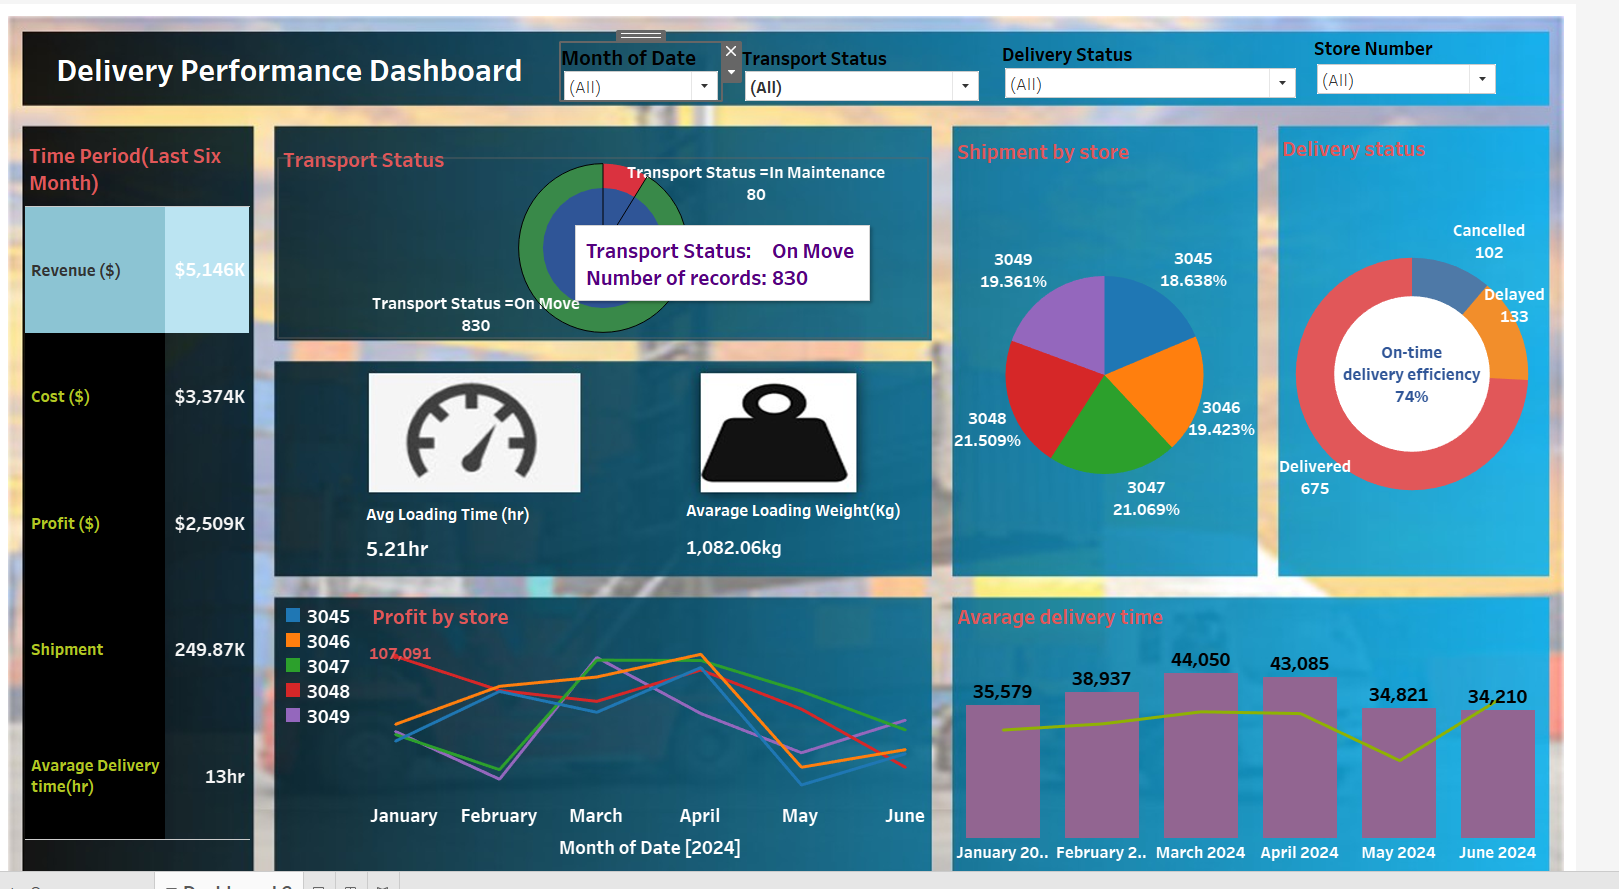

Layout of this report page (visuals, bound fields, positions):
{"tool":"tableau","page":{"name":"Dashboard 2","canvas":[1580,900],"ordinal":0},"visuals":[{"type":"image","param":"Image/D1.jpg","box":[8,8,1564,884]},{"type":"text","box":[547,42,501,41]},{"type":"text","box":[283,124,213,37]},{"type":"worksheet","title":"Sheet 4","mark":"Pie","rows":["Calculation_45598988193312774","Calculation_45598988193312774"],"box":[954,125,309,446]},{"type":"worksheet","title":"Sheet 5","mark":"Pie","box":[1281,127,273,442]},{"type":"worksheet","title":"Sheet 1","mark":"Automatic","box":[29,133,225,703]},{"type":"worksheet","title":"Sheet 7","mark":"Pie","rows":["Calculation_45598988193312774","Calculation_45598988193312774"],"box":[283,155,648,178]},{"type":"filter","title":"Sheet 5","param":"[federated.07plxwv0xyoyxw1gz97m71fv7bta].[none:StoreNumber:ok]","box":[1371,158,160,61]},{"type":"text","box":[629,220,100,30]},{"type":"text","box":[679,226,214,51]},{"type":"text","box":[1135,355,46,22]},{"type":"text","box":[998,384,222,31]},{"type":"worksheet","title":"Sheet 9","mark":"Automatic","box":[686,491,230,66]},{"type":"worksheet","title":"Sheet 8","mark":"Automatic","box":[366,495,228,60]},{"type":"worksheet","title":"Sheet 3","mark":"Automatic","rows":["Profit ($)"],"cols":["Date"],"box":[382,594,553,268]},{"type":"worksheet","title":"Sheet 6","mark":"Bar","rows":["Distance (km)","Calculation_45598988184244224"],"cols":["Date"],"box":[957,594,595,280]},{"type":"legend","title":"Sheet 3","param":"[federated.07plxwv0xyoyxw1gz97m71fv7bta].[none:StoreNumber:ok]","box":[285,617,90,246]}]}

Visuals, with their boxes in screenshot pixels (x1, y1, x2, y2):
image: BBox(0, 0, 1576, 868)
text: BBox(540, 9, 1046, 50)
text: BBox(273, 92, 489, 129)
"Sheet 4" worksheet (Pie marks): BBox(951, 93, 1264, 543)
"Sheet 5" worksheet (Pie marks): BBox(1282, 95, 1558, 541)
"Sheet 1" worksheet: BBox(17, 101, 244, 811)
"Sheet 7" worksheet (Pie marks): BBox(273, 123, 928, 303)
"Sheet 5" filter: BBox(1373, 126, 1535, 188)
text: BBox(623, 189, 724, 219)
text: BBox(674, 195, 890, 246)
text: BBox(1134, 325, 1181, 347)
text: BBox(996, 354, 1220, 386)
"Sheet 9" worksheet: BBox(681, 462, 913, 529)
"Sheet 8" worksheet: BBox(357, 467, 588, 527)
"Sheet 3" worksheet: BBox(373, 567, 932, 837)
"Sheet 6" worksheet (Bar marks): BBox(955, 567, 1556, 850)
"Sheet 3" legend: BBox(275, 590, 366, 838)
